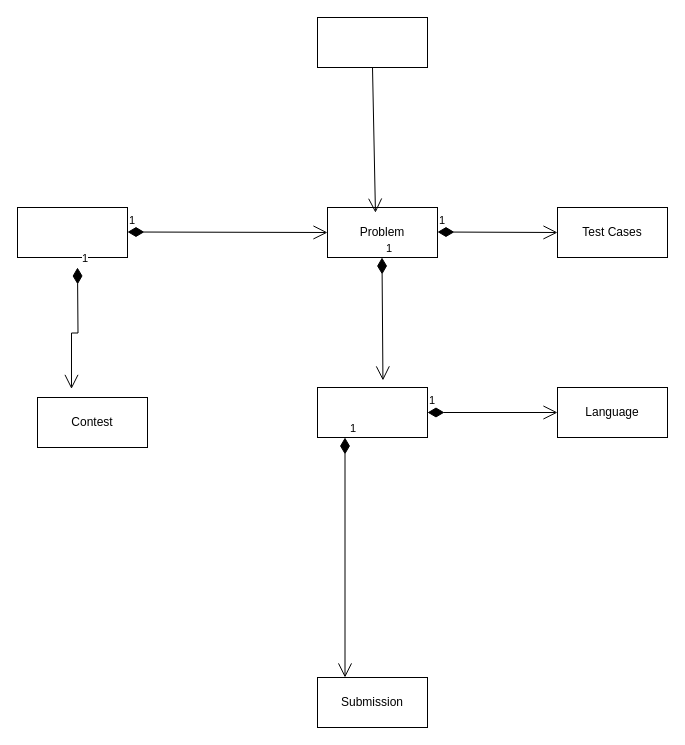
Image size: 685x745. Some labels were removed from this diagram. The shapes that lost their labels are listed below. From the top down, each one's centre as x and y in pixels, then its label:
pixel 372 42: Admin
pixel 72 232: User
pixel 372 412: Solution
